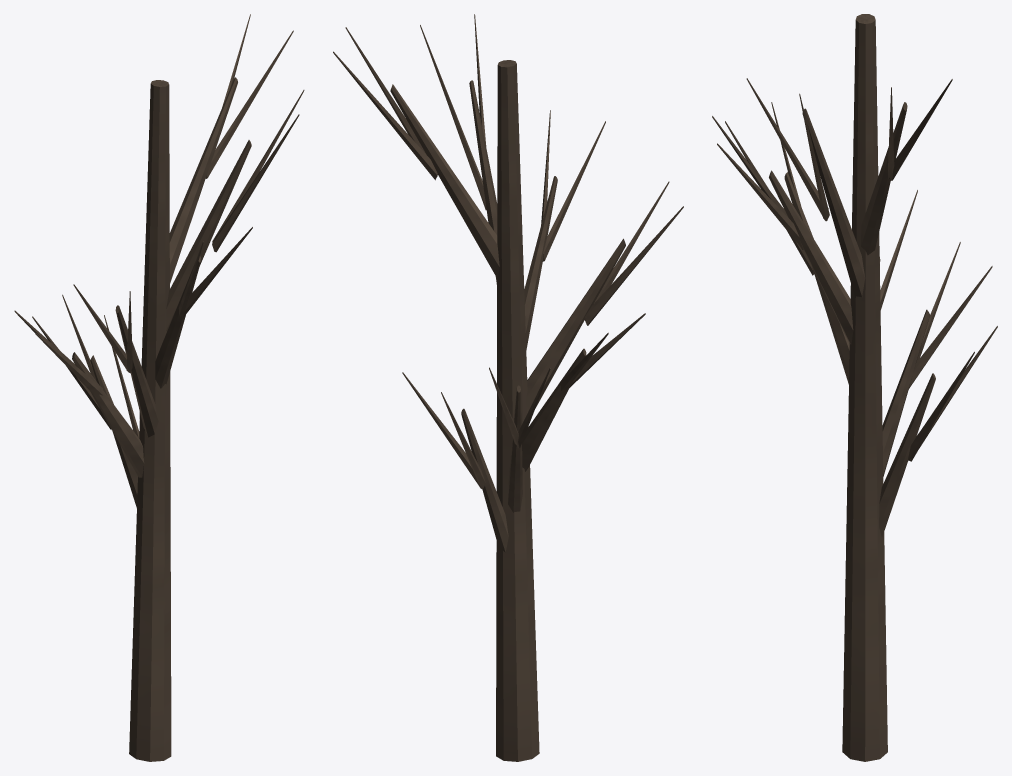
The model's file is tree_dead_03.fbx.
3 views of the same model, side by side, from view 1: azimuth 30°, elevation 25°; view 2: azimuth 150°, elevation 25°; view 3: azimuth 270°, elevation 25° (orthographic). The views are drawn at different scales.
Visible parts, largest first — view 1: tree_dead_03; view 2: tree_dead_03; view 3: tree_dead_03.
Part boxes in pixels (x1,y1,x2,y2): tree_dead_03: [14, 14, 304, 761]; tree_dead_03: [333, 14, 683, 761]; tree_dead_03: [712, 14, 997, 761].
Size of the model in its own units: 551 by 1300 by 450.
1 material, 1 textured.
